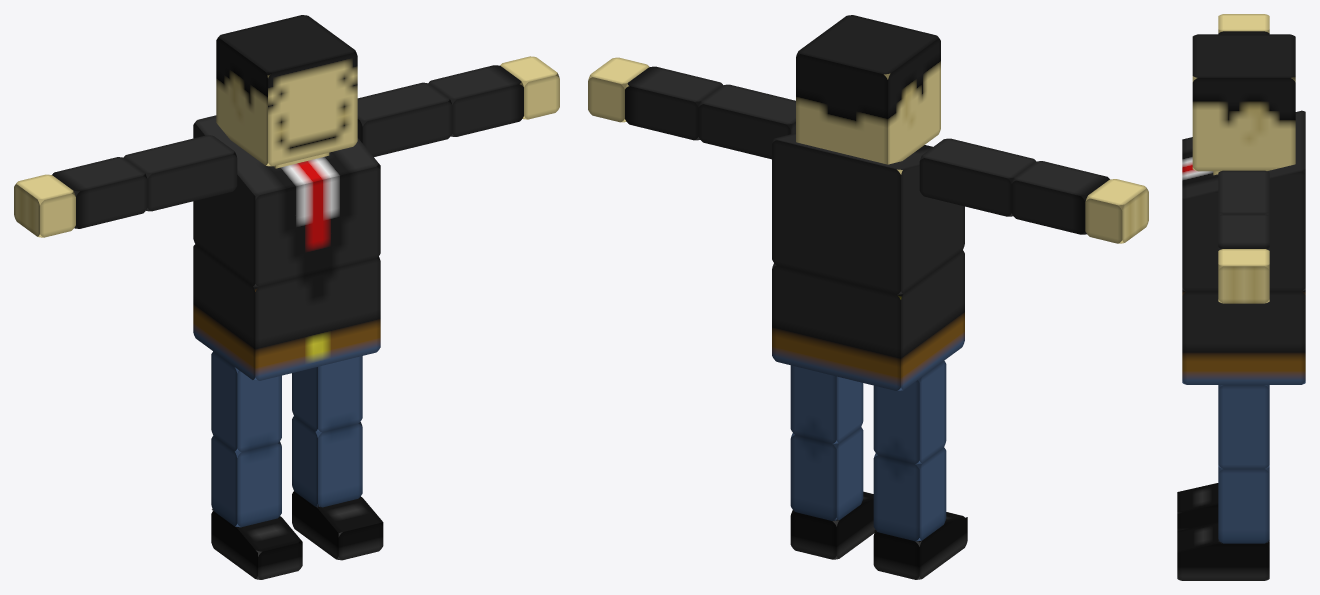
File: guyv4.fbx
3 views of the same model, side by side, from view 1: azimuth 30°, elevation 25°; view 2: azimuth 150°, elevation 25°; view 3: azimuth 270°, elevation 25° (orthographic). The views are drawn at different scales.
Visible parts, largest first — view 1: torso_1, head, torso_2, upper_right_arm, upper_left_arm, upper_right_leg, lower_right_leg, lower_left_leg, lower_left_arm, lower_right_arm, upper_left_leg, left_feet (+3 smaller); view 2: torso_1, torso_2, head, upper_right_arm, upper_right_leg, lower_right_leg, lower_left_leg, upper_left_arm, lower_right_arm, lower_left_arm, upper_left_leg, right_feet (+3 smaller); view 3: head, torso_2, torso_1, upper_left_leg, left_feet, lower_left_leg, left_hand, upper_left_arm, lower_left_arm, right_feet, right_hand, lower_right_arm.
Boxes of the visible parts, x1,y1,x2,y2 form: torso_1: (193, 115, 380, 287); head: (216, 15, 357, 166); torso_2: (193, 244, 380, 380); upper_right_arm: (123, 135, 237, 211); upper_left_arm: (357, 82, 452, 156); upper_right_leg: (211, 351, 281, 452); lower_right_leg: (211, 435, 281, 527); lower_left_leg: (292, 416, 362, 507); lower_left_arm: (428, 65, 523, 136); lower_right_arm: (52, 157, 147, 228); upper_left_leg: (292, 356, 362, 432); left_feet: (292, 491, 383, 560); torso_1: (772, 133, 964, 294); torso_2: (772, 250, 964, 390); head: (796, 15, 940, 164); upper_right_arm: (919, 138, 1036, 216); upper_right_leg: (873, 361, 946, 463); lower_right_leg: (873, 447, 946, 541); lower_left_leg: (790, 427, 863, 520); upper_left_arm: (698, 84, 795, 159); lower_right_arm: (1011, 161, 1109, 234); lower_left_arm: (625, 66, 722, 140); upper_left_leg: (790, 365, 863, 443); right_feet: (873, 512, 967, 579); head: (1192, 34, 1295, 171); torso_2: (1182, 287, 1305, 384); torso_1: (1182, 110, 1305, 291); upper_left_leg: (1218, 385, 1269, 468); left_feet: (1177, 522, 1269, 580); lower_left_leg: (1218, 465, 1269, 543); left_hand: (1218, 249, 1269, 303); upper_left_arm: (1218, 170, 1269, 249); lower_left_arm: (1218, 214, 1269, 268); right_feet: (1177, 483, 1218, 530); right_hand: (1218, 14, 1269, 33); lower_right_arm: (1218, 31, 1269, 34).
Bounding box in the file's own units: 362 × 331 × 78.12.
1 material, 1 textured.
